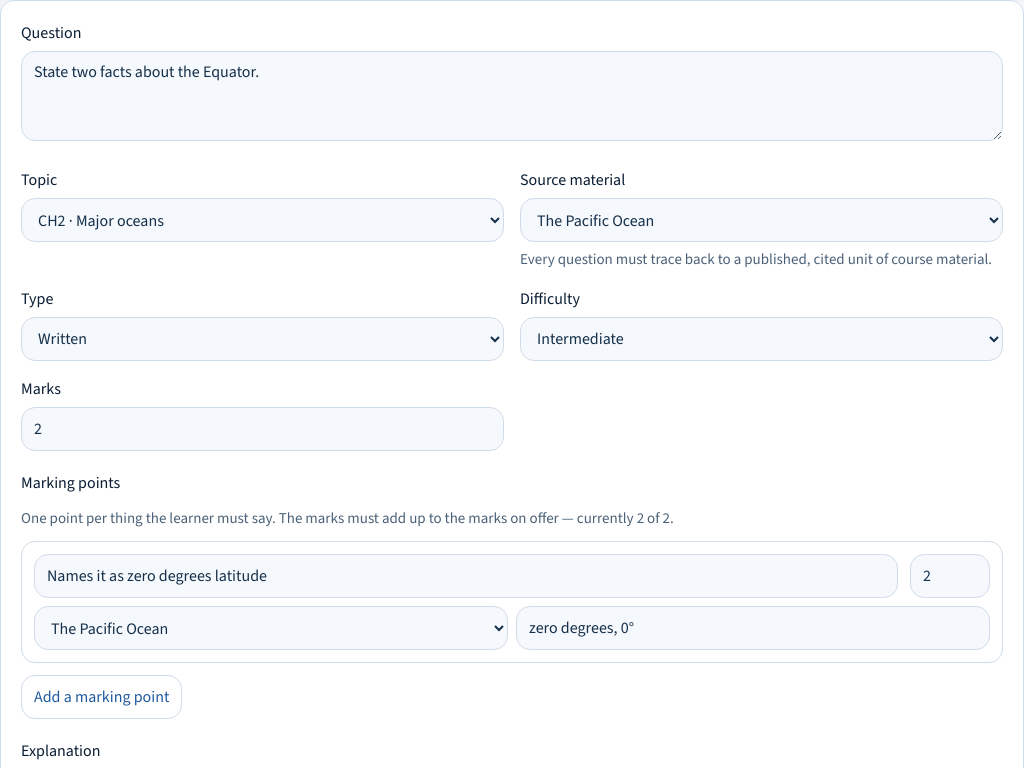
Test: writing a written question › keeps a running total of the marks, so they can be made to add up
The width and height of the screenshot is (1024, 768).
Expected: the text "currently 2 of 2" is shown, [21, 508, 674, 528]
Replace the text in the number field named "Marks for point 1" with "1". click: (950, 576)
box: [910, 554, 990, 598]
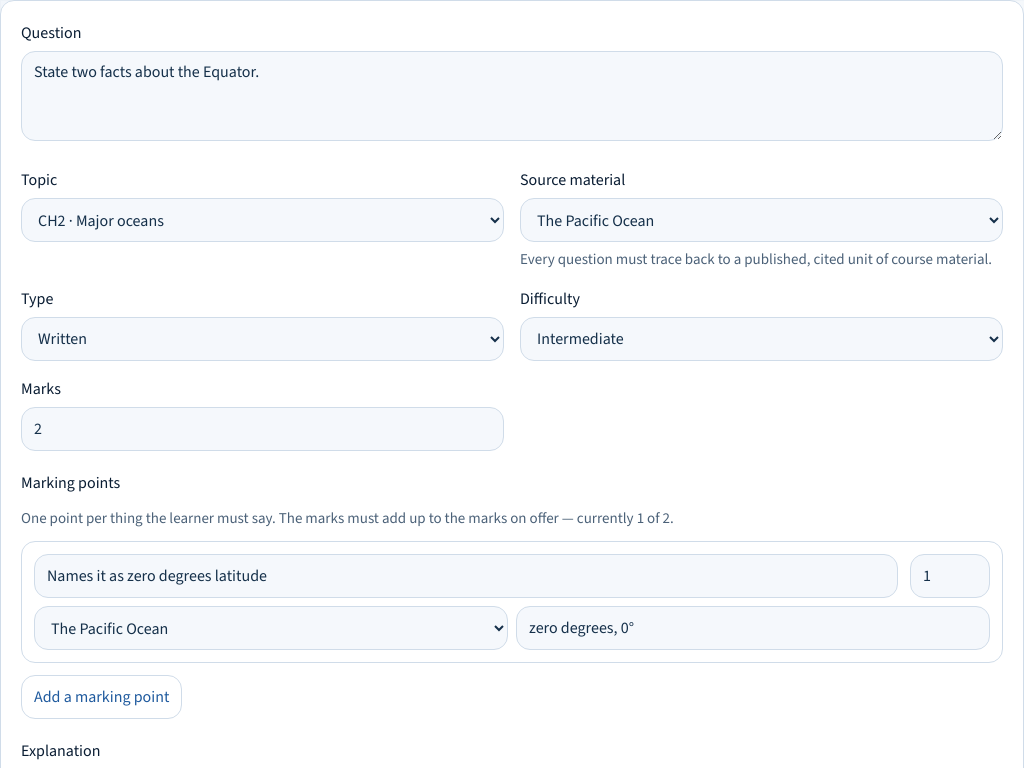
Now the text "currently 1 of 2" is shown, box [21, 508, 674, 528]
